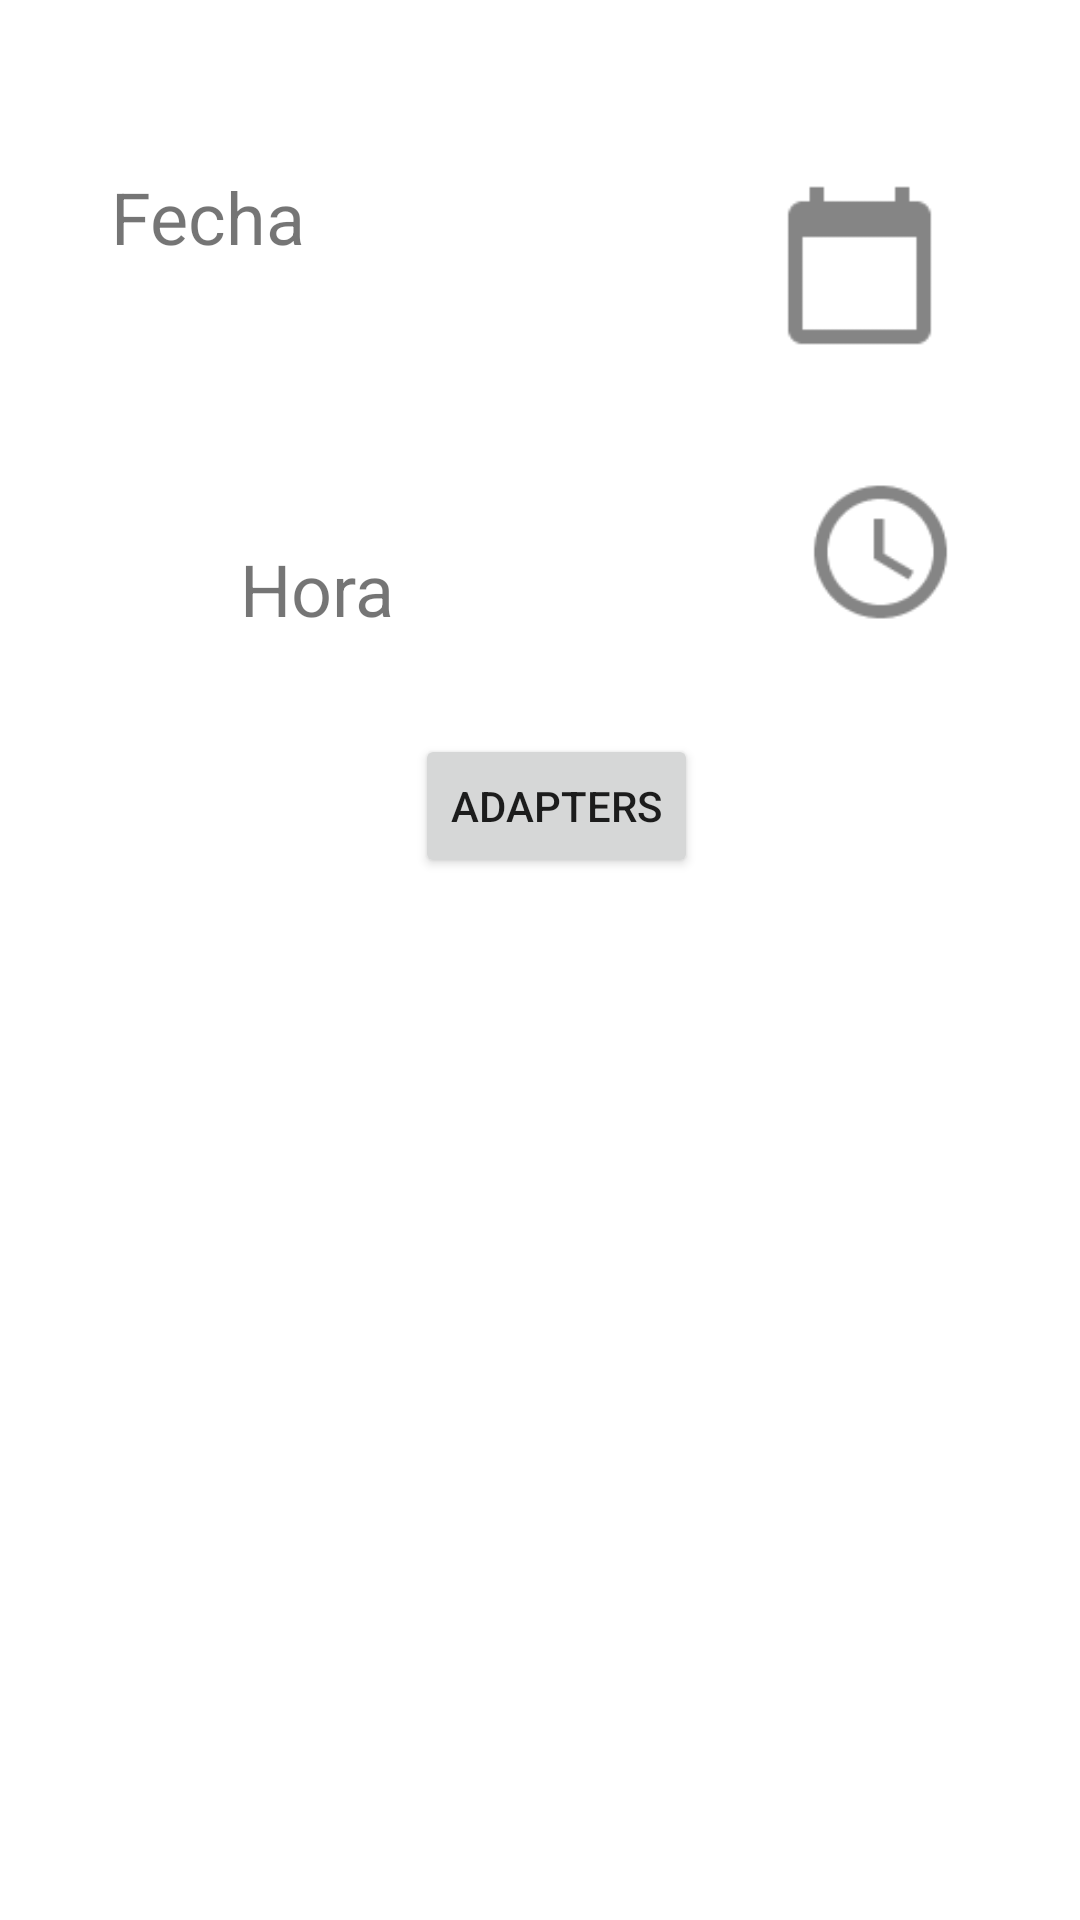

Locate icon controls on the screen. Image size 1080px x 1920px, boxes as (x1, y1, x2, y2).
calendar: (788, 186, 931, 345)
clock: (814, 485, 947, 619)
